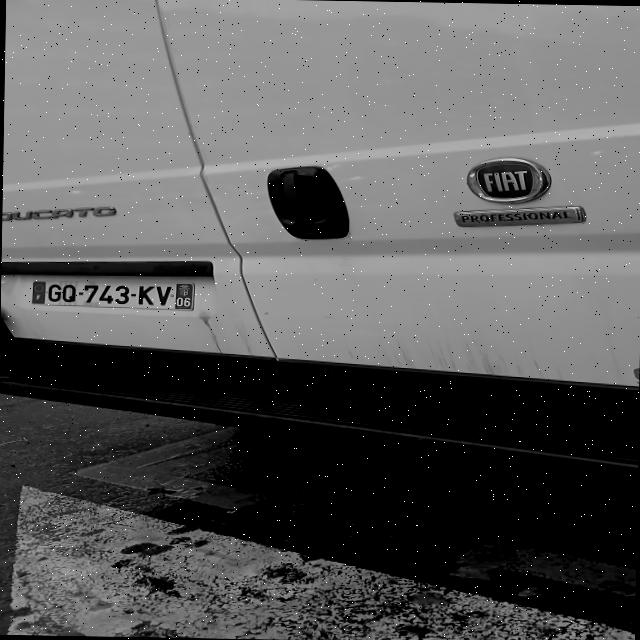EU: (27, 280, 197, 310)
France: (28, 279, 51, 303)
